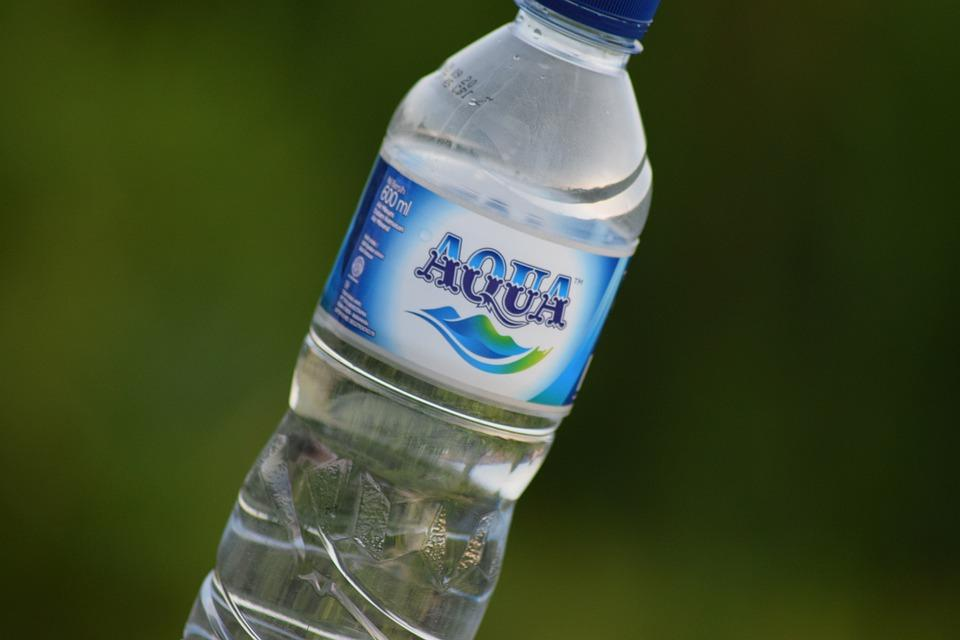plastic_bottle: (172, 4, 681, 640)
